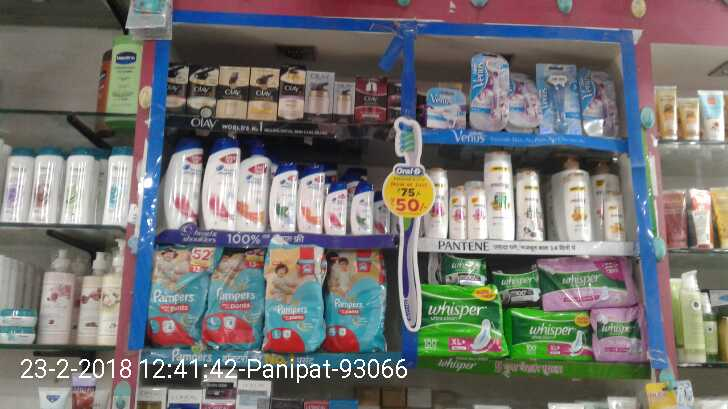venus: (536, 63, 582, 135), (470, 52, 508, 132), (582, 68, 617, 135), (508, 70, 535, 132), (427, 87, 465, 126)
